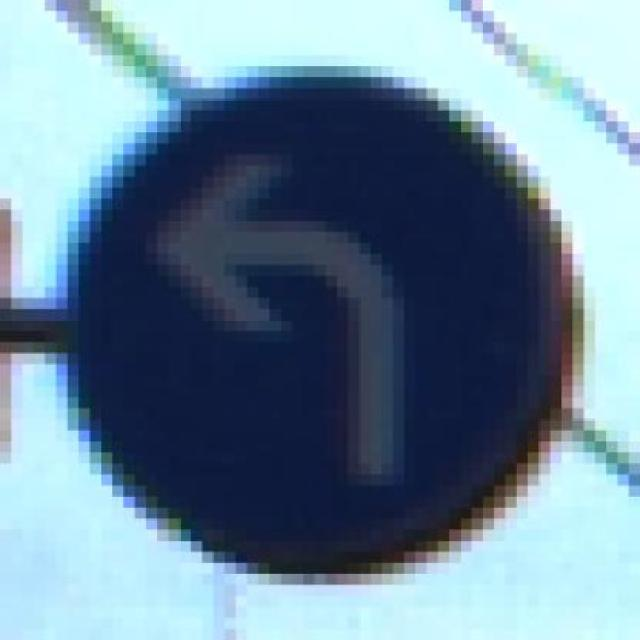Turn left ahead: (44, 55, 584, 574)
